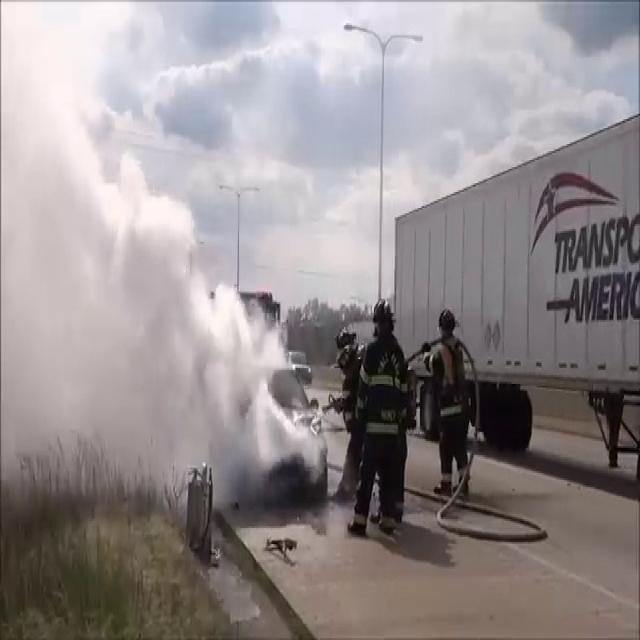Smoke: (1, 145, 299, 510)
